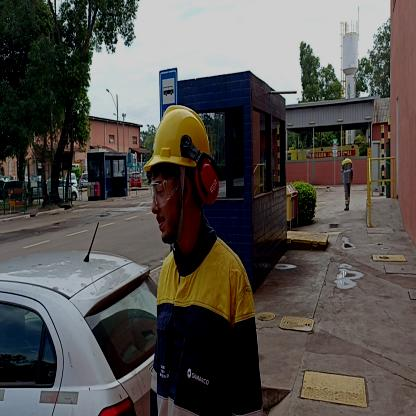C_eletrica: (140, 169, 266, 416), (156, 253, 260, 416)
Capacete: (144, 99, 210, 168)
